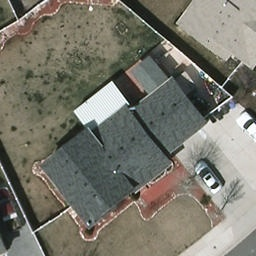car: (192, 159, 228, 194)
